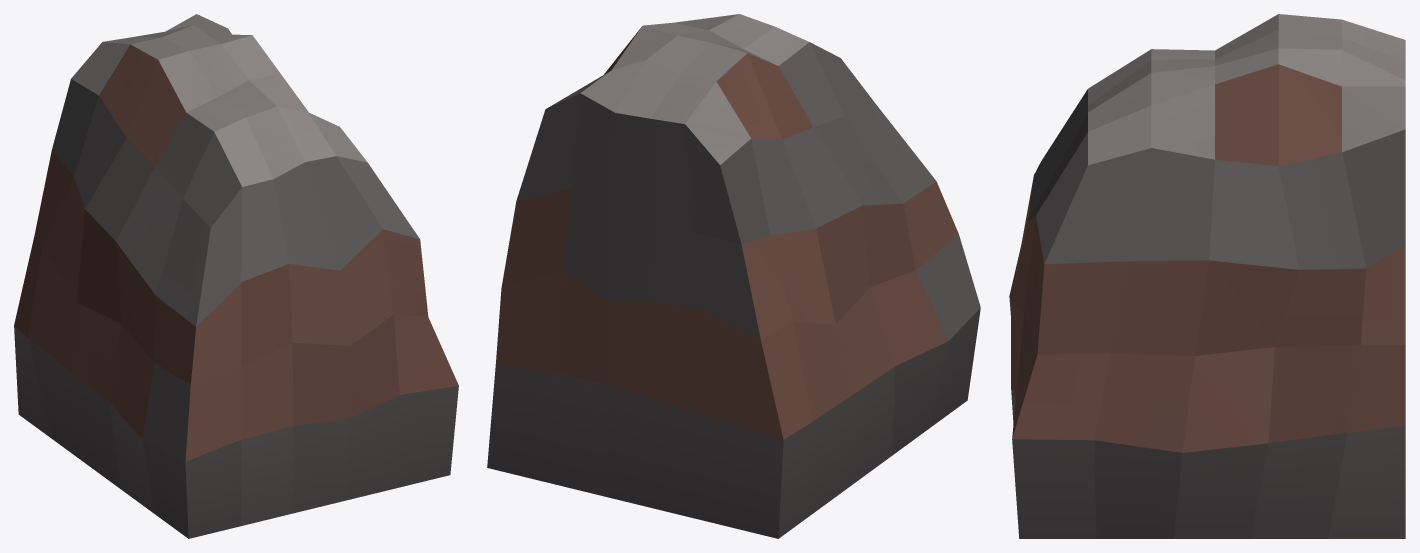
Rendered from roca_punta_3.glb.
3 renders of one model, left to right at view 1: azimuth 30°, elevation 25°; view 2: azimuth 150°, elevation 25°; view 3: azimuth 270°, elevation 25°, orthographic. The views are drawn at different scales.
Visible parts, largest first — view 1: propforge-cuartos-roca_punta; view 2: propforge-cuartos-roca_punta; view 3: propforge-cuartos-roca_punta.
Part boxes in pixels (<box>): propforge-cuartos-roca_punta: <box>14,14,458,538</box>; propforge-cuartos-roca_punta: <box>487,14,980,538</box>; propforge-cuartos-roca_punta: <box>1009,14,1405,538</box>.
Size of the model in its own units: 0.8901 by 1.1 by 0.9229.
